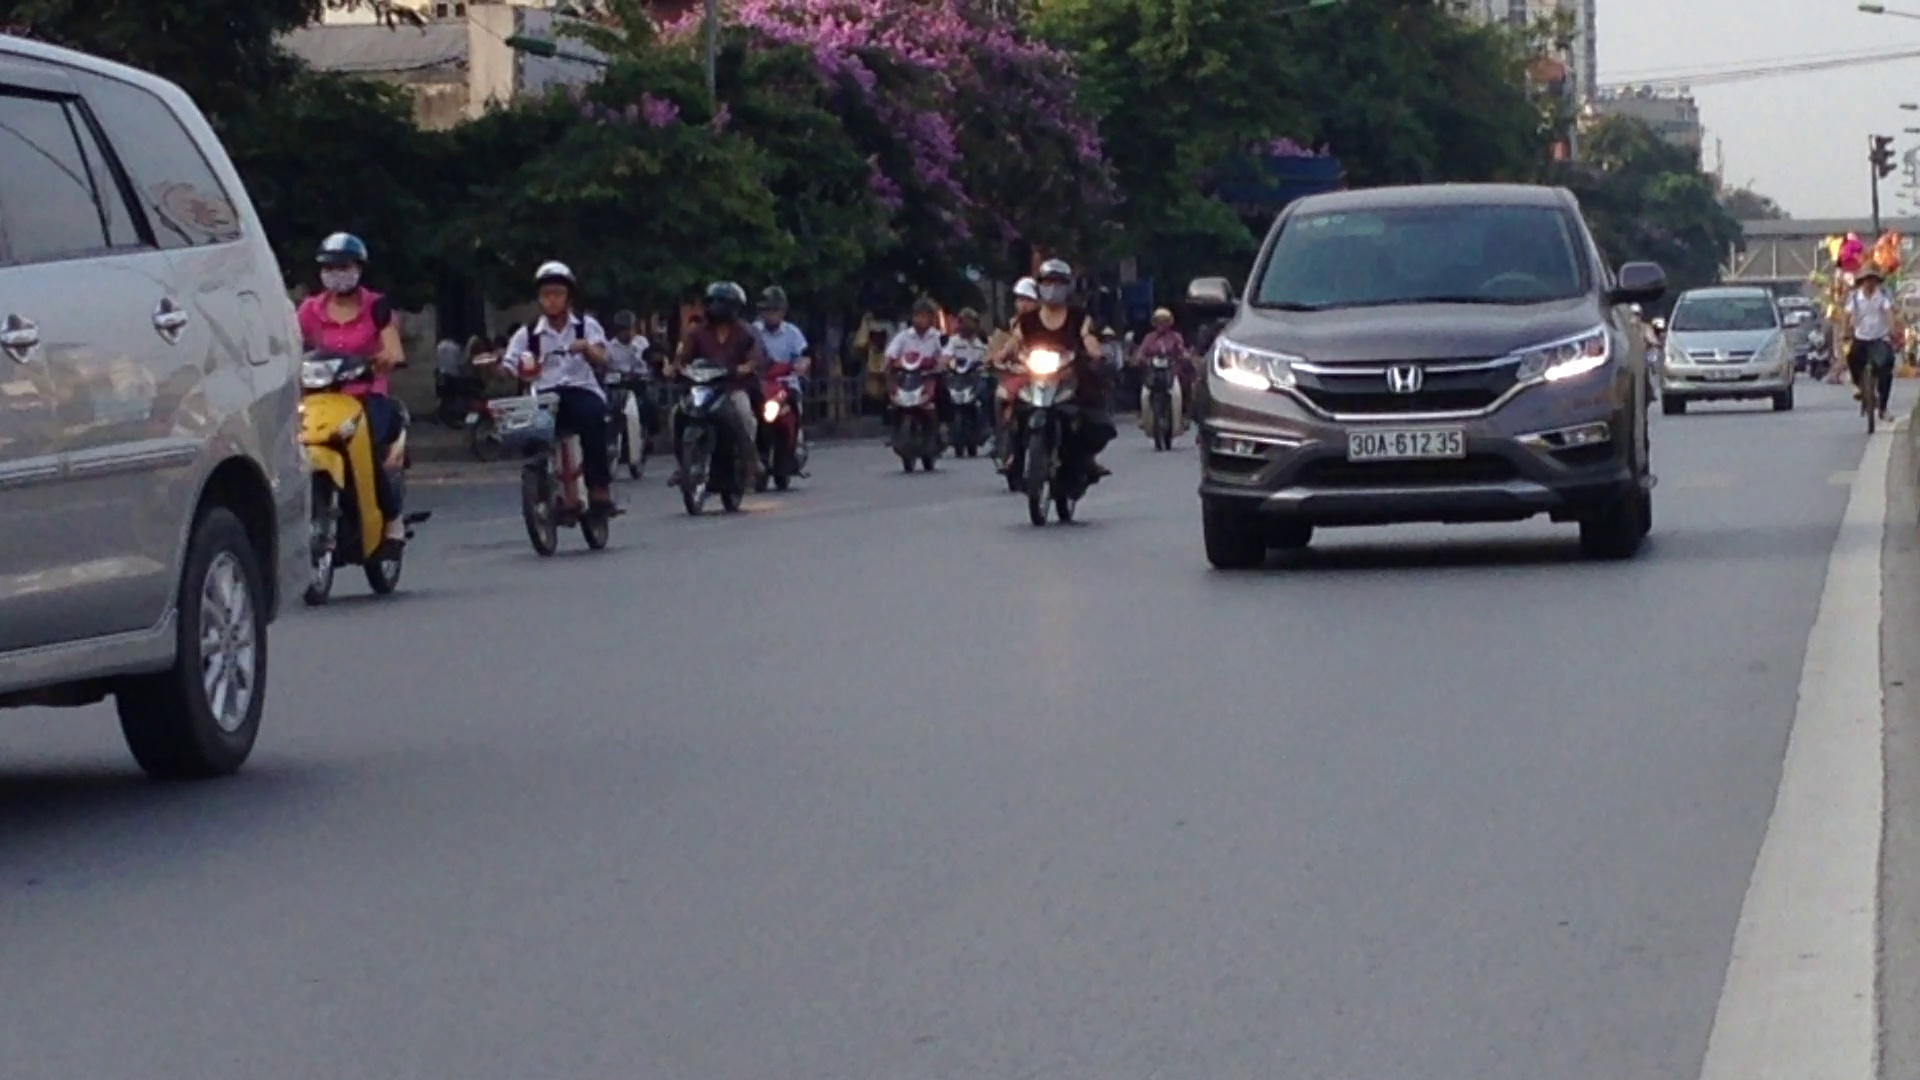vehicle-plate: (1343, 421, 1471, 461)
